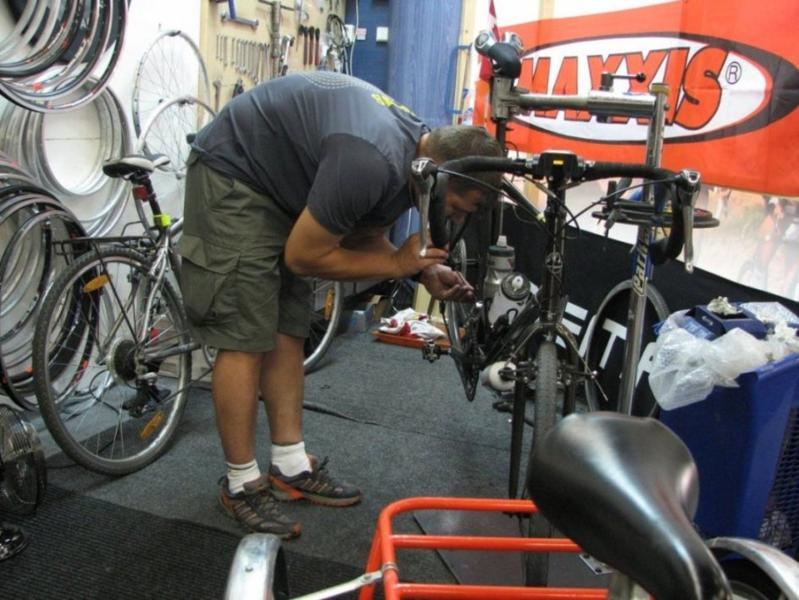person: (182, 69, 504, 543)
